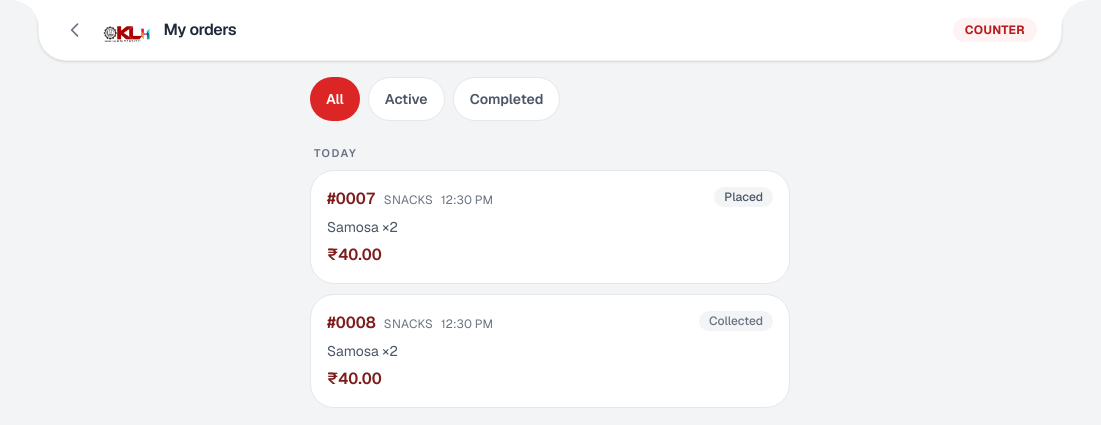
Scenario: filters to active and completed orders
Expected: the text "Placed" is shown, [714,186,773,206]
Click the tab "Completed".
click(506, 99)  # box [453,77,560,121]
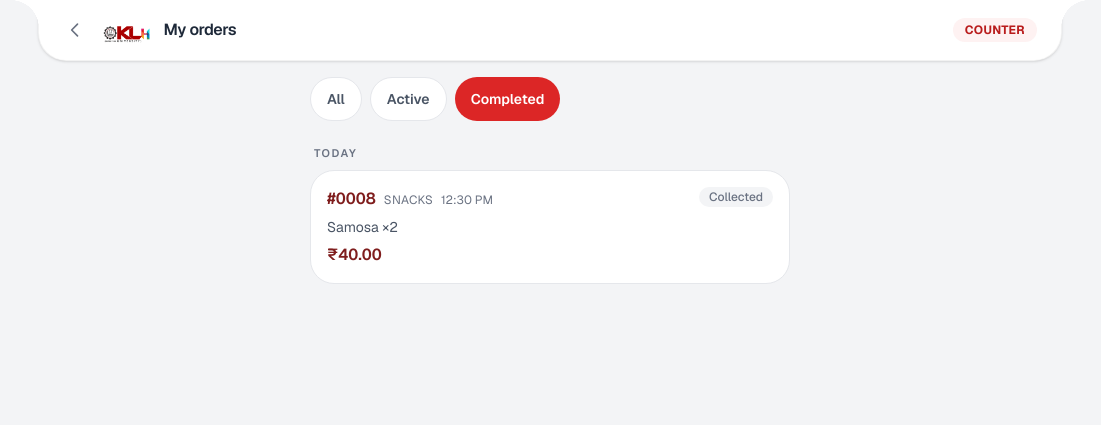
Expected: the text "Collected" is shown, [699,186,773,206]
Now the link "Placed" is gone
Click the tab "Active".
click(408, 99)  # box [370,77,447,121]
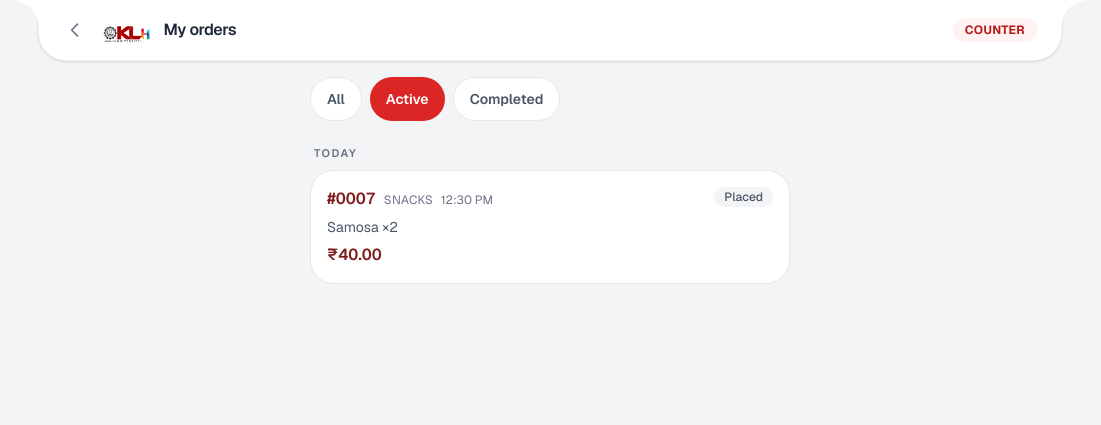
Now the link "Collected" is gone
Now the text "Placed" is shown, box [714,186,773,206]
